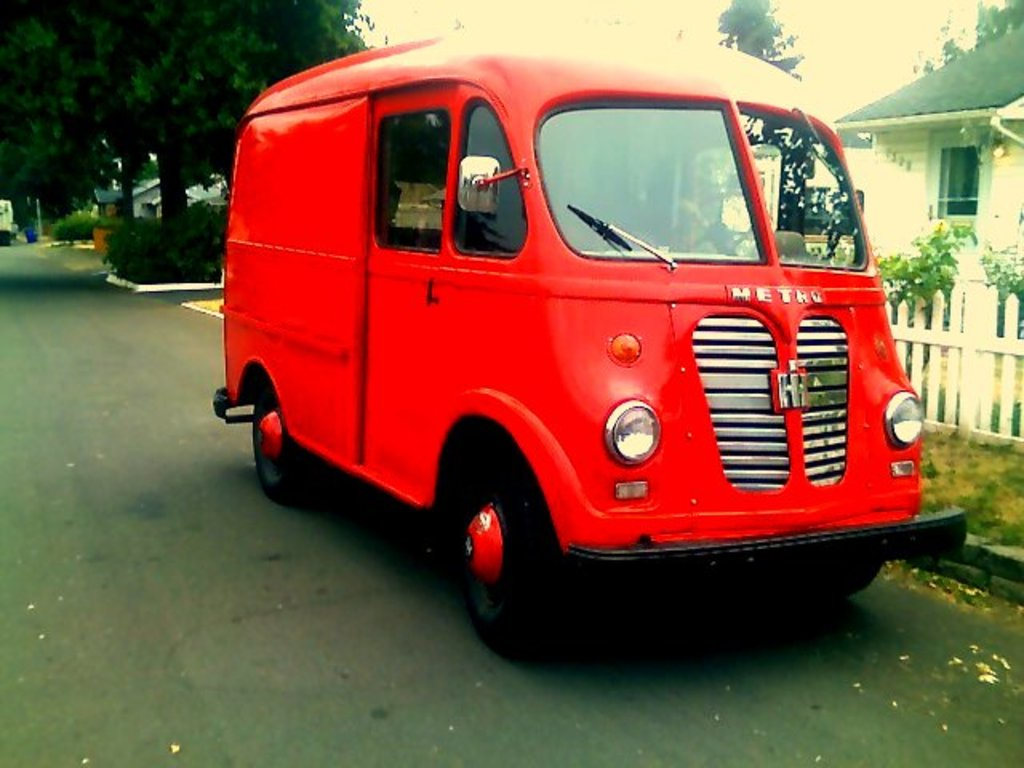Tree: (0, 0, 1023, 282), (0, 0, 371, 233)
